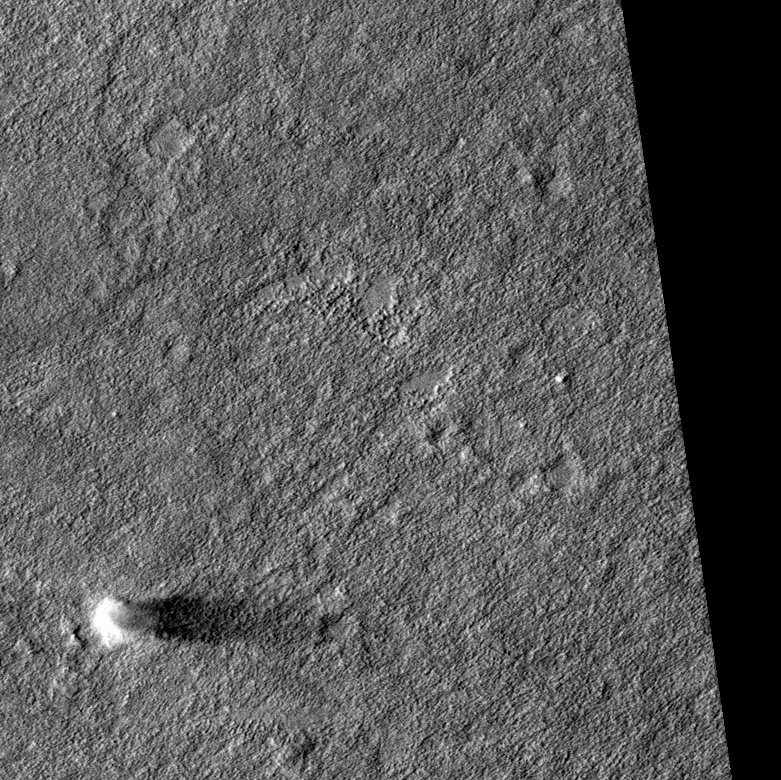dust_devil: (89, 591, 334, 651)
